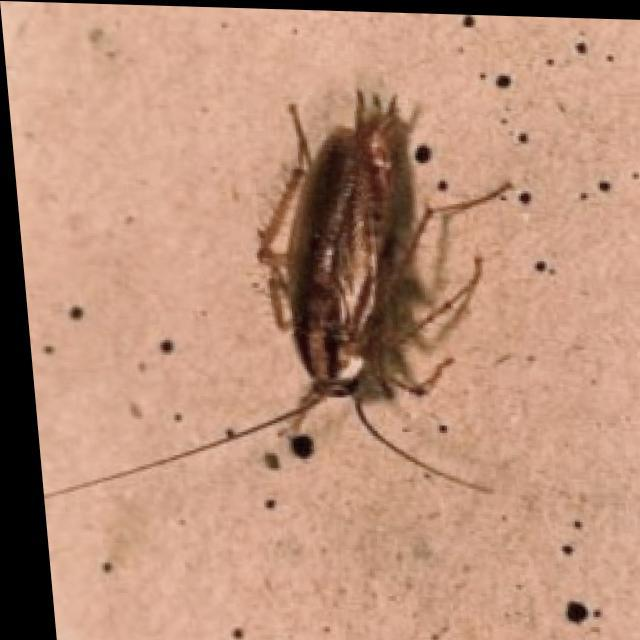cockroach: (246, 82, 529, 494)
